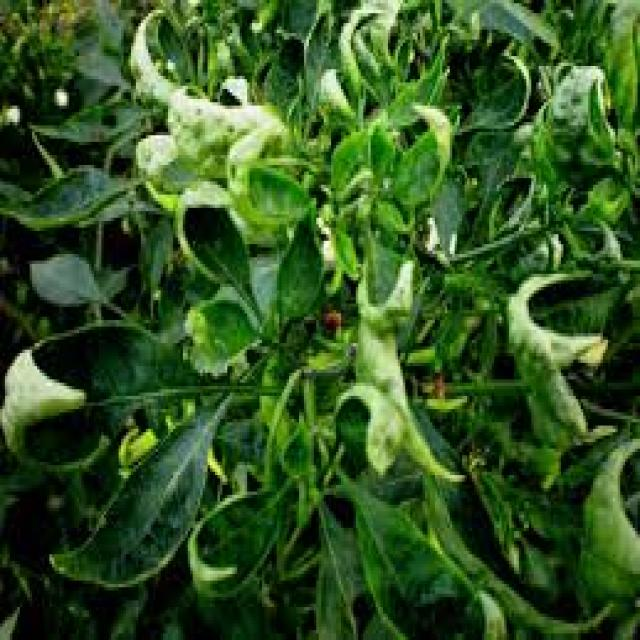Nutirtion_deficie: (69, 420, 346, 640), (101, 27, 320, 264), (329, 376, 496, 640), (465, 225, 615, 420), (330, 70, 460, 267), (558, 399, 640, 624), (540, 10, 621, 193), (163, 273, 276, 400)
